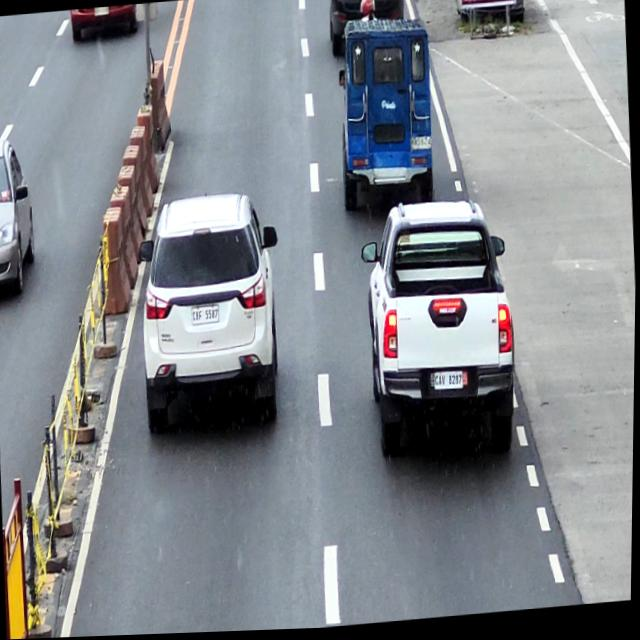Car: (357, 197, 524, 475), (134, 191, 289, 442), (0, 134, 39, 297), (327, 0, 408, 59), (70, 5, 138, 43)
Jeep: (333, 16, 439, 220)
License-Plate: (191, 306, 221, 328), (435, 373, 465, 395), (410, 139, 432, 155), (93, 8, 110, 18), (359, 0, 376, 1)
